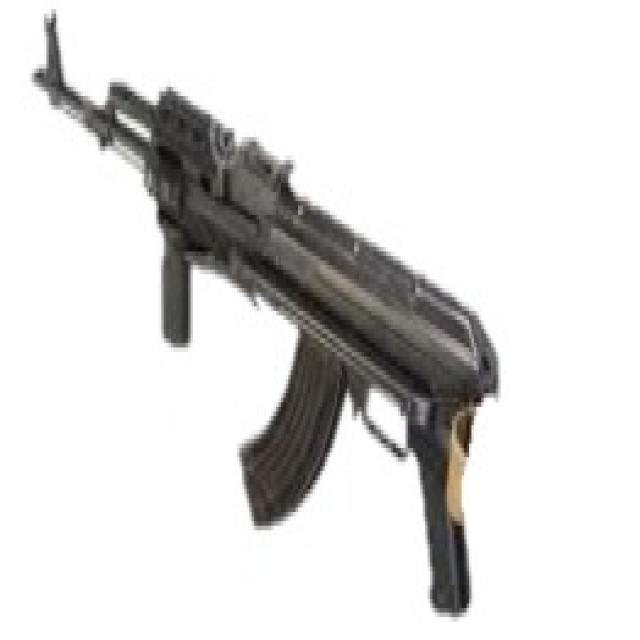rifle: (21, 6, 500, 640)
